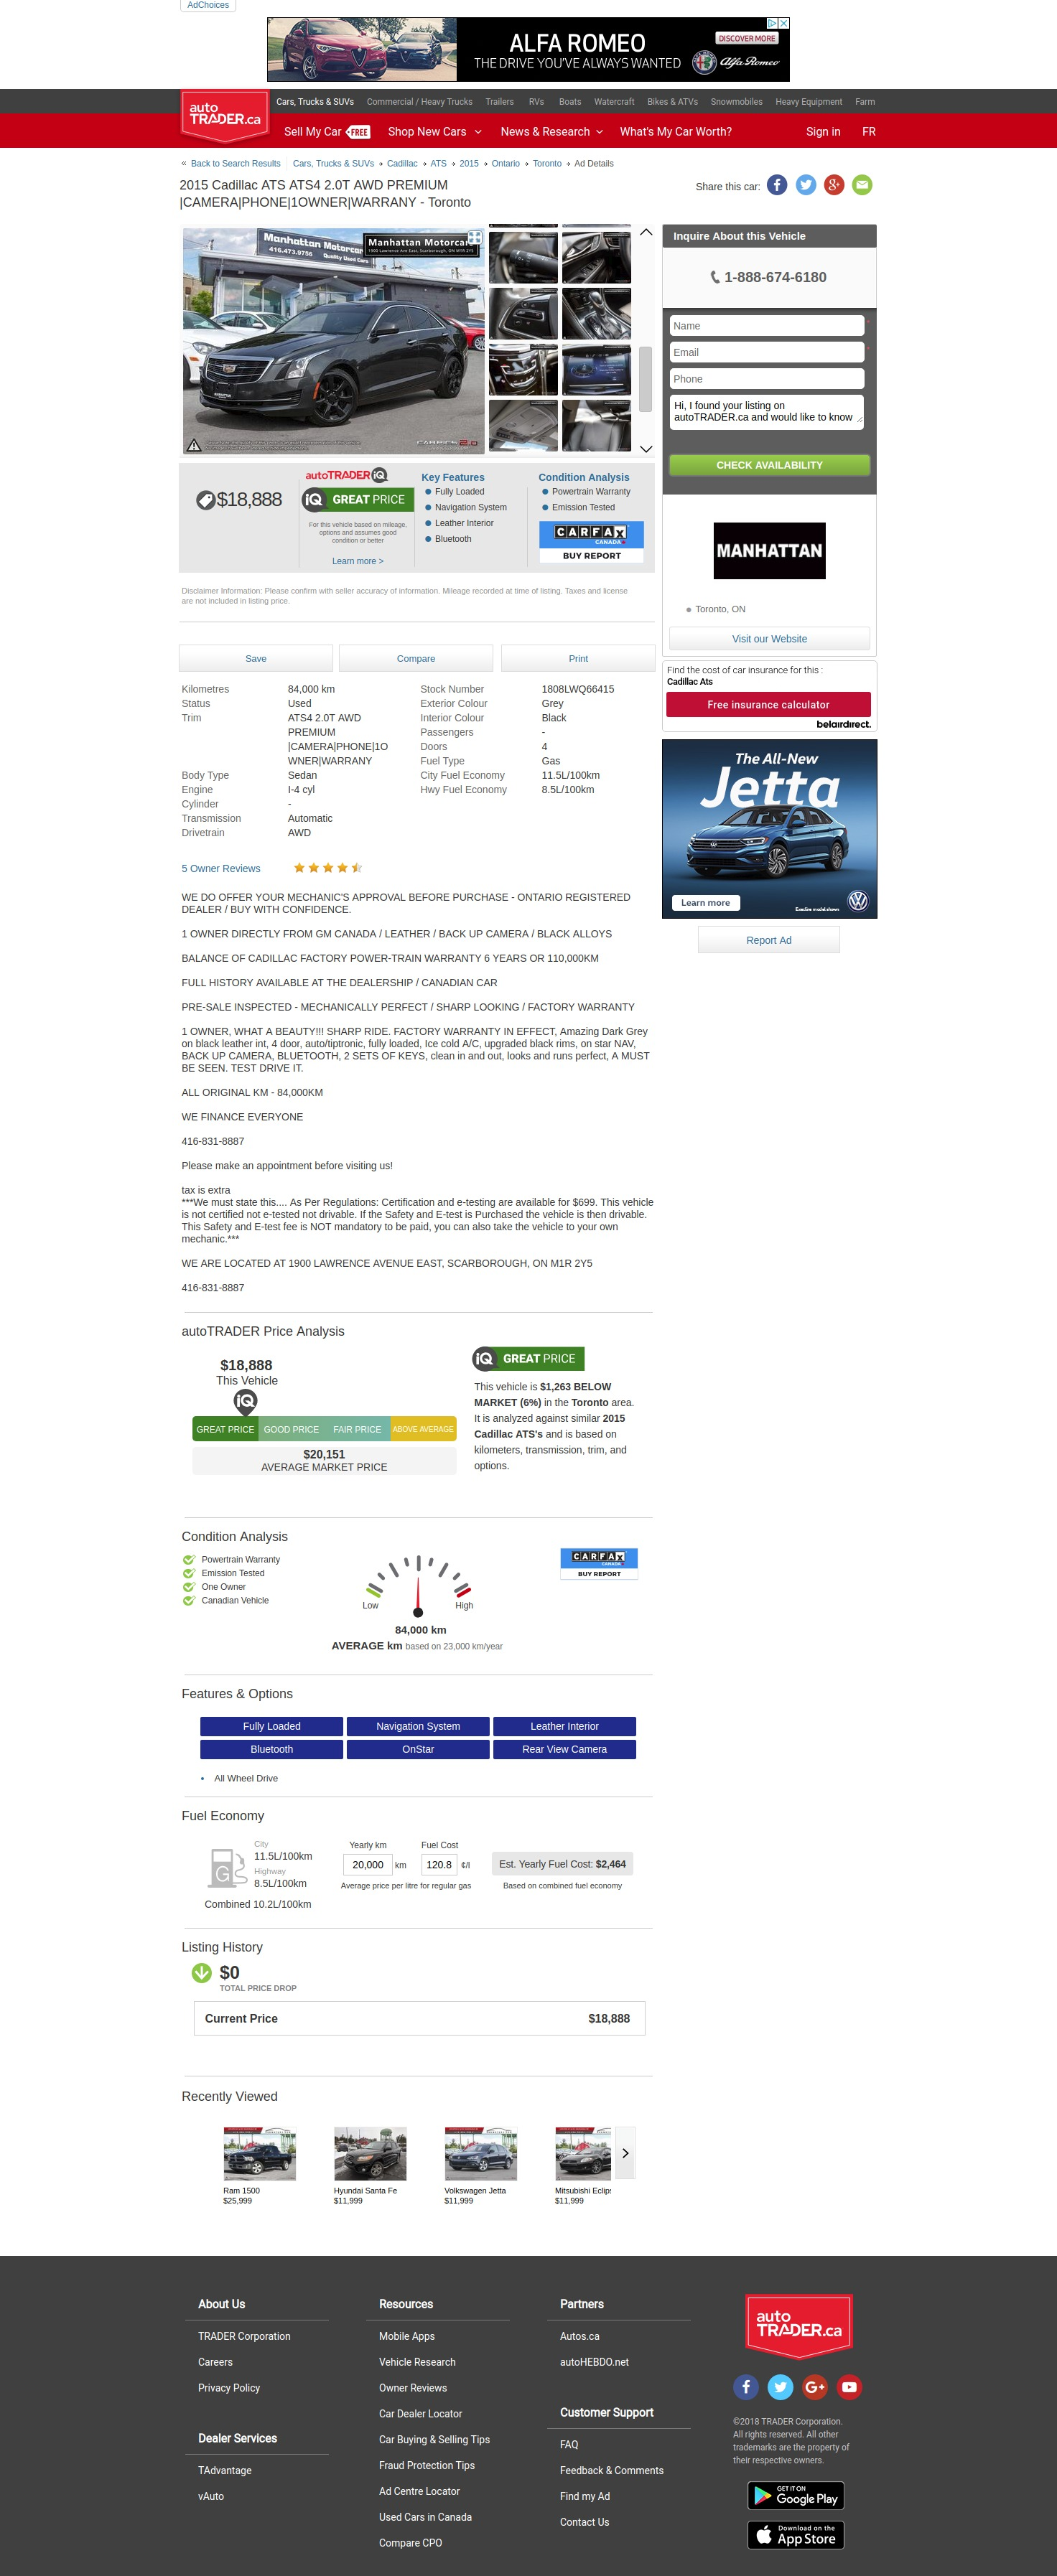car: (639, 444, 654, 455)
